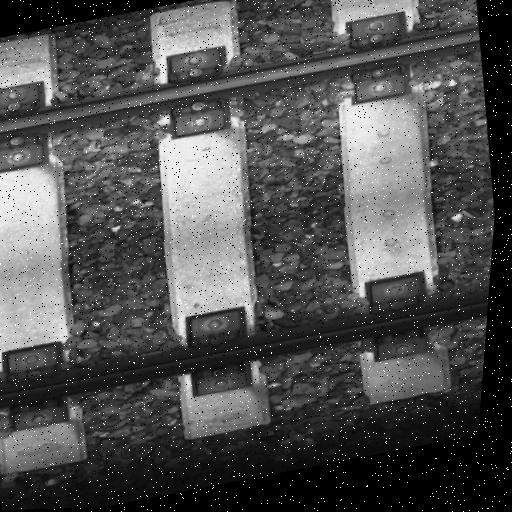sleeper: (114, 0, 301, 444), (294, 0, 482, 412), (0, 30, 120, 478)
